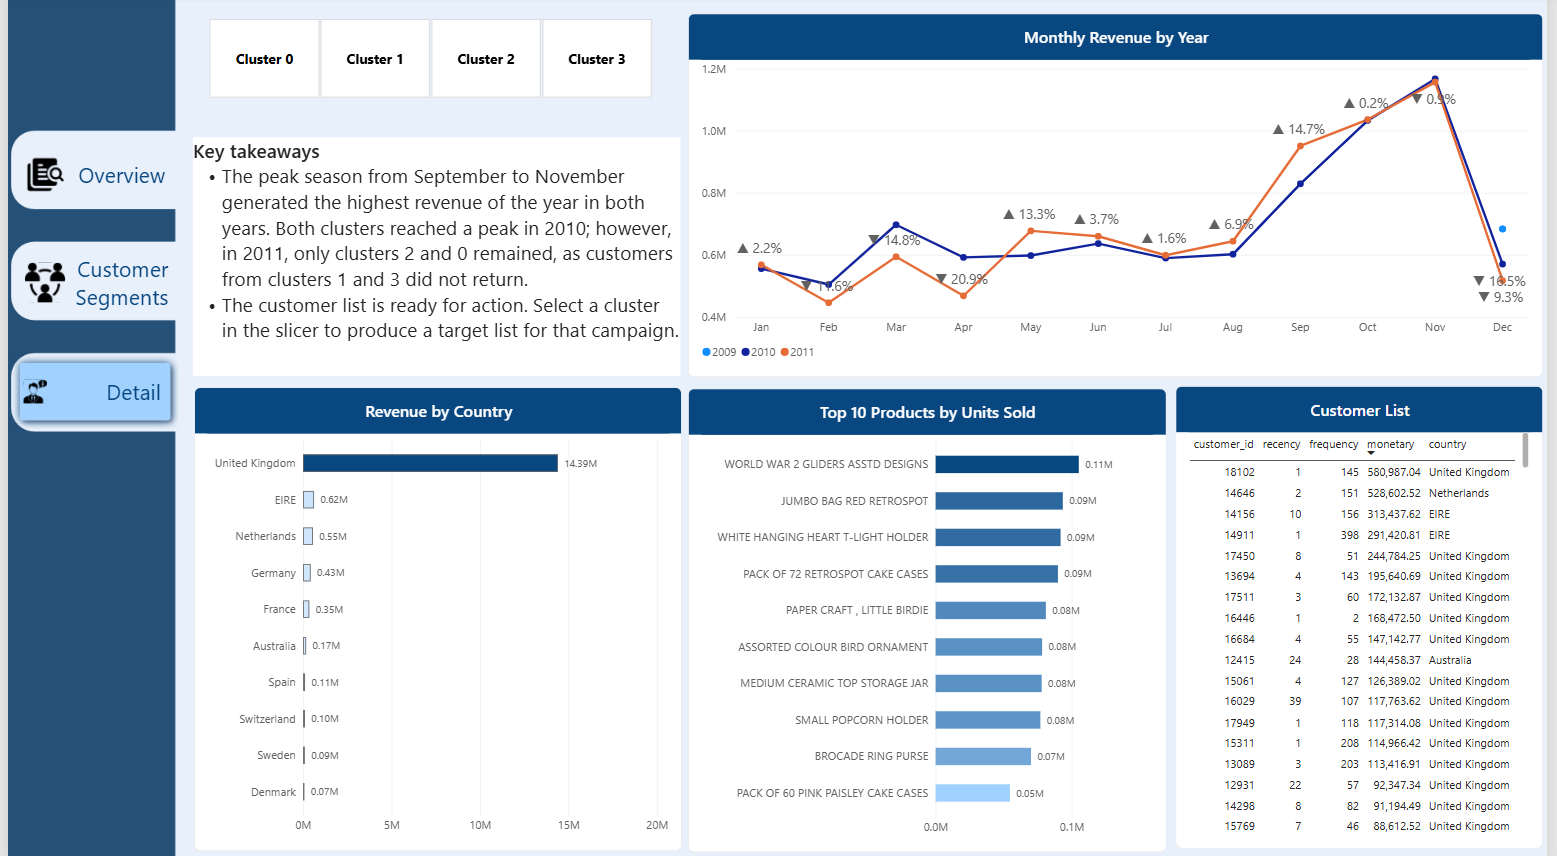

The page's visual inventory and layout, read from the dashboard file:
{"tool":"powerbi","page":{"name":"Clusters Detail","canvas":[1920,1080],"ordinal":2},"visuals":[{"type":"tableEx","title":"Customer List","fields":{"Values":["dim_customer.customer_id","dim_customer.recency","dim_customer.frequency","dim_customer.monetary","fact_sales.country"]},"box":[1456.7,486.7,458.3,576.7],"z":0},{"type":"slicer","fields":{"Values":["dim_customer.Cụm"]},"box":[231.1,26.5,590.9,102.3],"z":1000},{"type":"barChart","title":"Top 10 Products by Units Sold","fields":{"Category":["dim_product.description"],"Y":["fact_sales.Số lượng bán"]},"box":[848.3,490,596.7,578.3],"z":2000},{"type":"barChart","title":"Revenue by Country","fields":{"Category":["fact_sales.country"],"Y":["fact_sales.Doanh thu"]},"box":[231.7,488.3,608.3,578.3],"z":3000},{"type":"lineChart","title":"Monthly Revenue by Year","fields":{"Category":["dim_date.Month"],"Series":["dim_date.Year"],"Y":["fact_sales.Doanh thu"]},"box":[848.3,21.7,1066.7,453.3],"z":4000},{"type":"actionButton","title":"OVERVIEW","box":[17,176.1,191.3,92.8],"z":5000},{"type":"actionButton","title":"OVERVIEW","box":[17,312.5,195.1,90.9],"z":6000},{"type":"actionButton","title":"OVERVIEW","box":[4,448,208,92],"z":7000},{"type":"textbox","box":[231.1,176.1,607.9,297.3],"z":8001}]}

Visuals, with their boxes on the page's 1920x1080 design canvas (x1, y1, x2, y2). These are canvas units, not pixel positions in the 1557x856 screenshot, which may show the page scaled, cropped or inside an application window:
"Customer List" tableEx: bbox=[1457, 487, 1915, 1063]
slicer - dim_customer.Cụm: bbox=[231, 26, 822, 129]
"Top 10 Products by Units Sold" barChart: bbox=[848, 490, 1445, 1068]
"Revenue by Country" barChart: bbox=[232, 488, 840, 1067]
"Monthly Revenue by Year" lineChart: bbox=[848, 22, 1915, 475]
"OVERVIEW" actionButton: bbox=[17, 176, 208, 269]
"OVERVIEW" actionButton: bbox=[17, 312, 212, 403]
"OVERVIEW" actionButton: bbox=[4, 448, 212, 540]
textbox: bbox=[231, 176, 839, 473]
